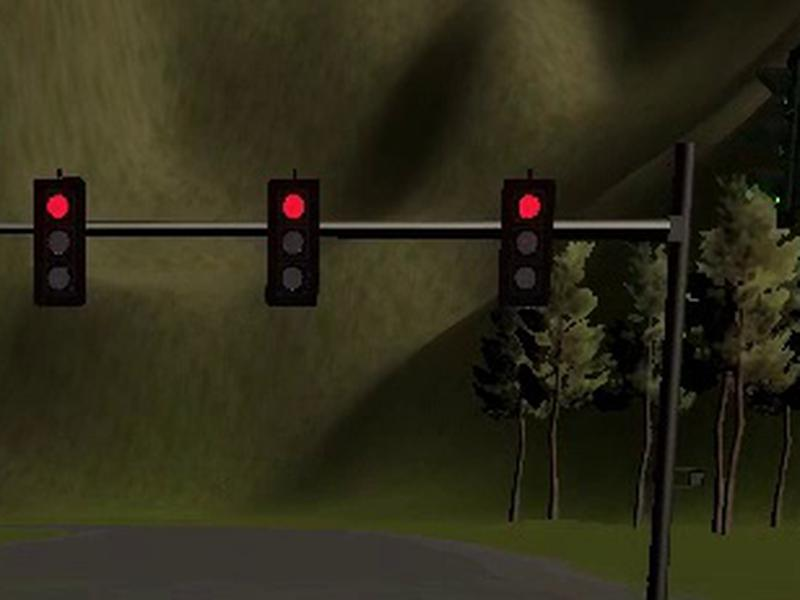Red: (498, 179, 558, 307), (264, 180, 318, 308), (34, 177, 86, 307)
